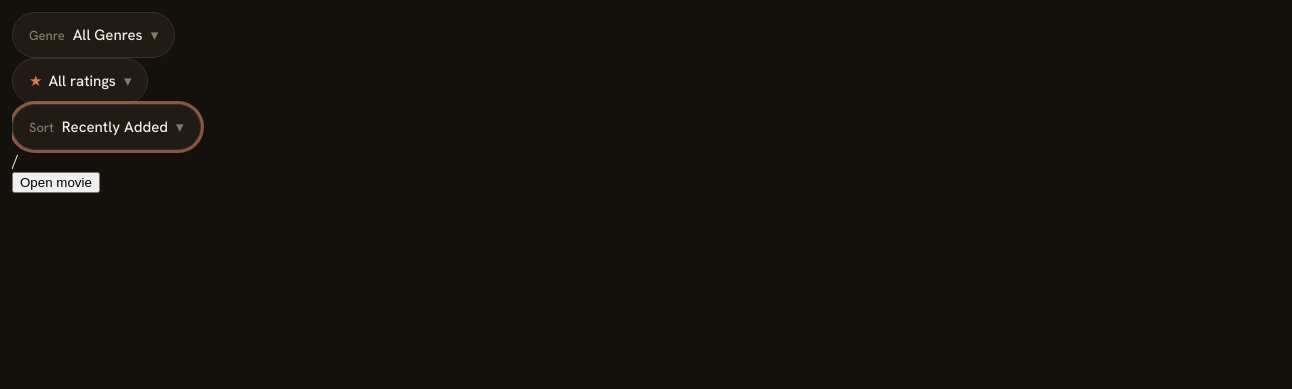
Test case: LibraryFilters — from the keyboard › closes on Escape, with focus back on the pill
Click the button "Sort Recently Added ▾" at point(106, 127), box x1=12 y1=104 x2=200 y2=150
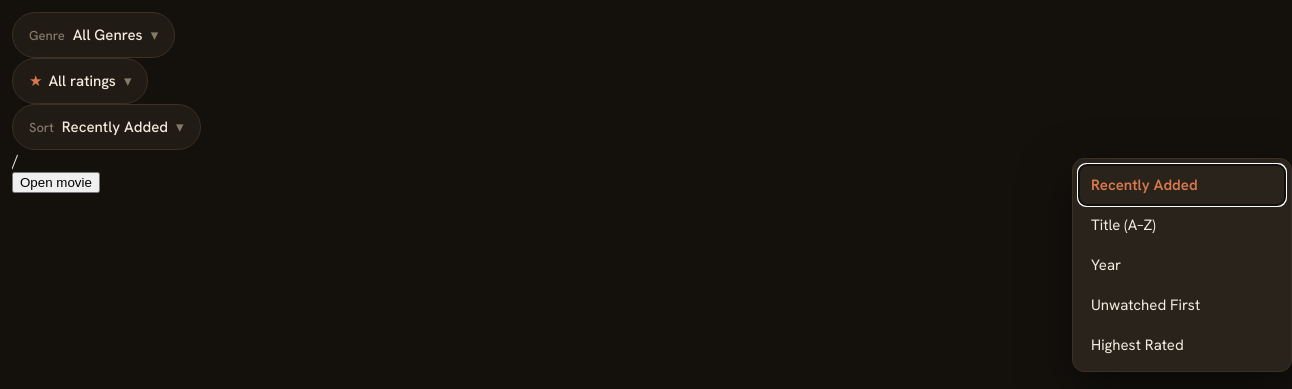
Press Escape
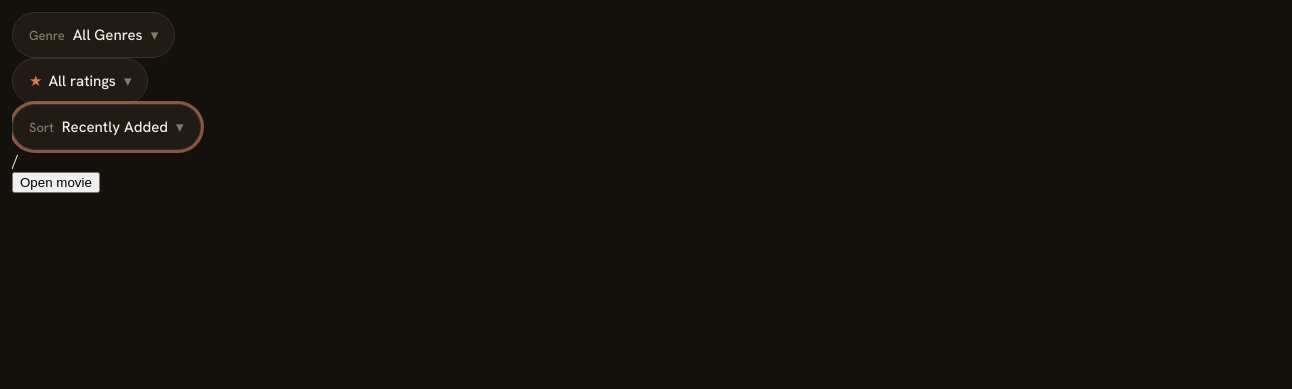
Expected: the menu item "Year" is gone
